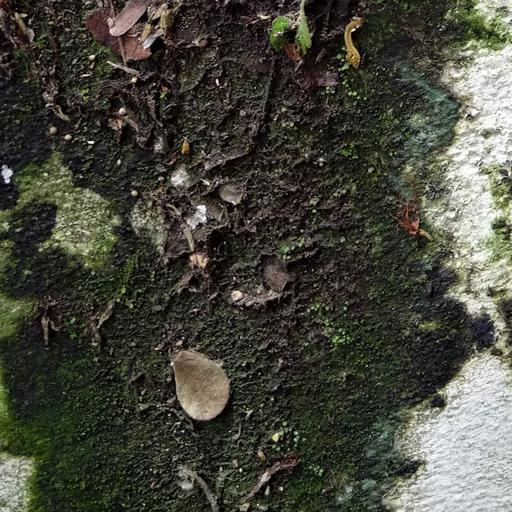algae: (0, 0, 466, 508)
